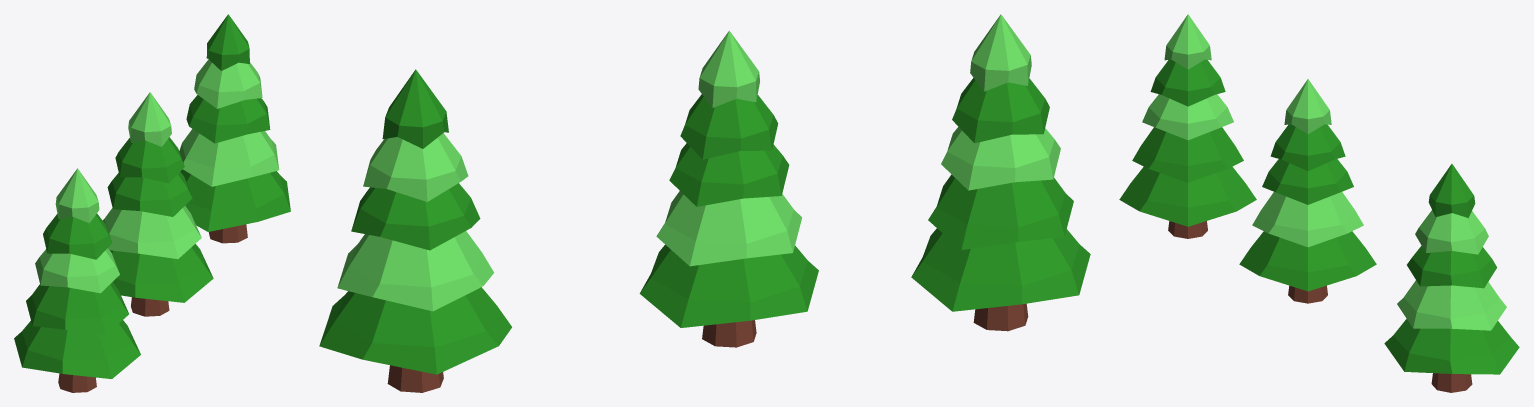
The model's file is IlhaMaori.fbx.
The picture shows the model from 3 angles, left to right: view 1: azimuth 30°, elevation 25°; view 2: azimuth 150°, elevation 25°; view 3: azimuth 270°, elevation 25°; orthographic projection. The views are drawn at different scales.
Visible parts, largest first — view 1: Tree01.001, Tree01.003, Tree01; view 2: Tree01.003, Tree01.001, Tree01; view 3: Tree01.003, Tree01, Tree01.001.
Boxes of the visible parts, x1=… form: Tree01.001: x1=14, y1=168, x2=140, y2=392; Tree01.003: x1=179, y1=14, x2=290, y2=243; Tree01: x1=103, y1=92, x2=213, y2=316; Tree01.003: x1=319, y1=69, x2=511, y2=392; Tree01.001: x1=911, y1=14, x2=1090, y2=331; Tree01: x1=639, y1=30, x2=818, y2=347; Tree01.003: x1=1384, y1=164, x2=1519, y2=392; Tree01: x1=1239, y1=79, x2=1376, y2=303; Tree01.001: x1=1119, y1=14, x2=1256, y2=238.
Bounding box in the file's own units: 2049 × 1147 × 1790.
